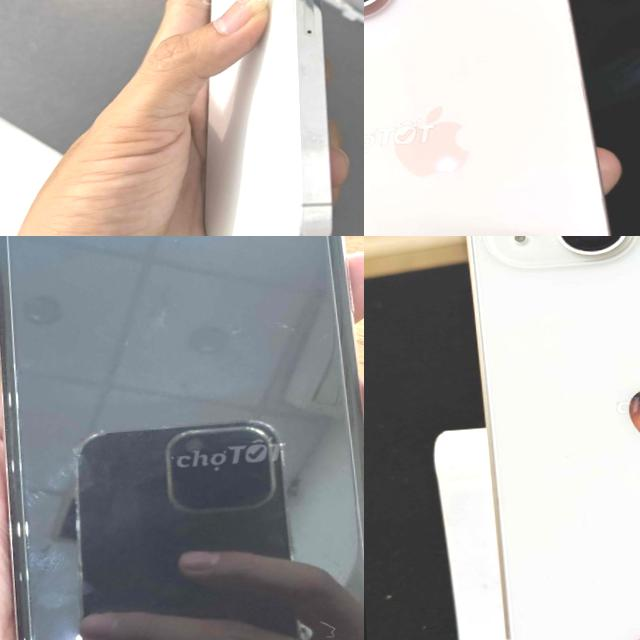gen_12_13: (469, 236, 640, 640)
gen_14: (170, 0, 354, 236)
gen_15: (364, 0, 640, 236)
gen_x_xs: (0, 236, 364, 640)
scratch: (15, 464, 89, 584), (253, 310, 336, 356), (294, 611, 356, 640), (213, 319, 259, 350)
